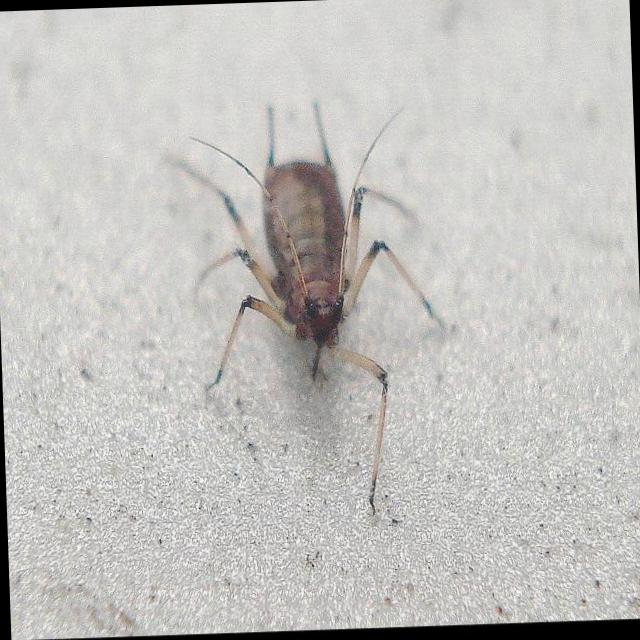aphid: (193, 108, 450, 491)
